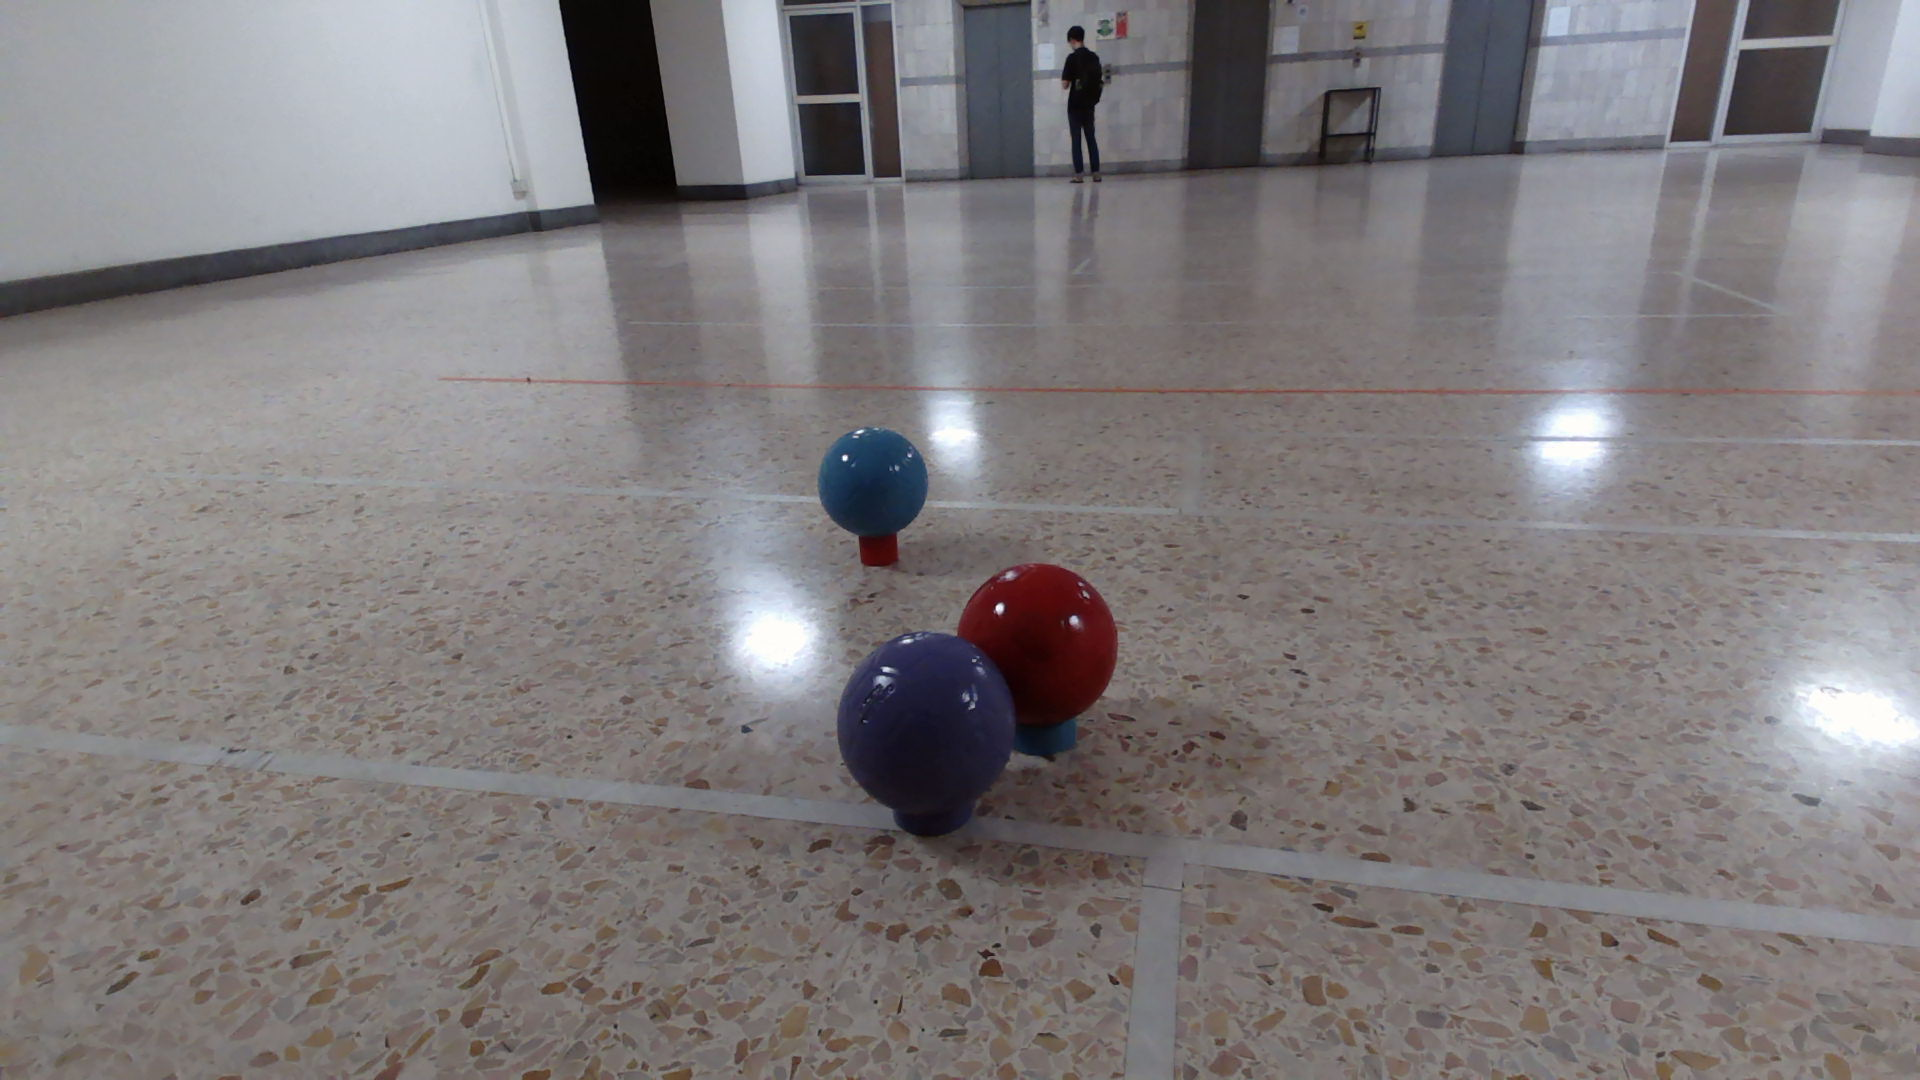Blue ball: (818, 425, 930, 537)
Purple ball: (836, 629, 1019, 815)
Red ball: (955, 560, 1120, 727)
